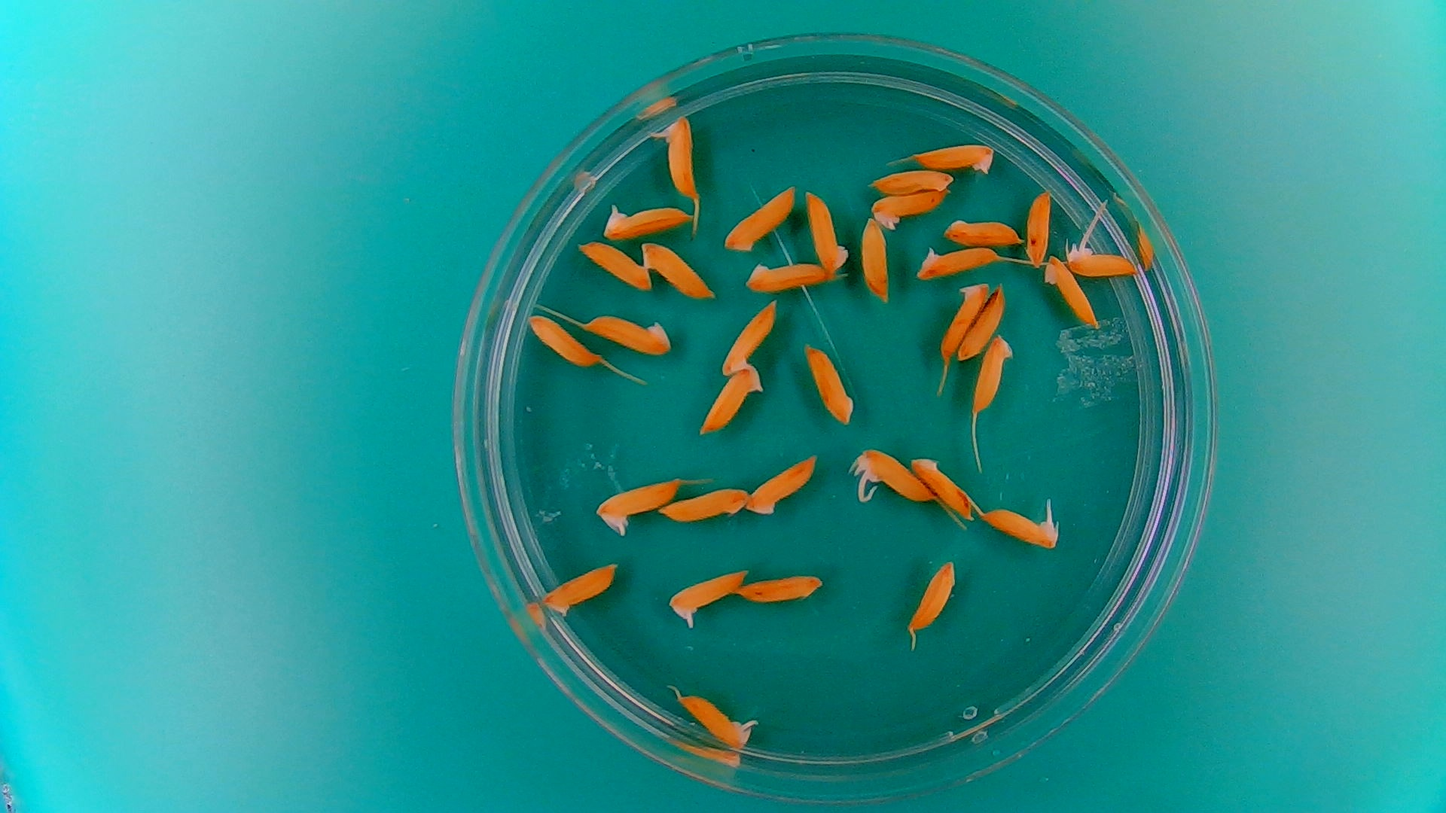no: (722, 182, 798, 252), (696, 361, 765, 438), (745, 449, 822, 518), (720, 295, 778, 381), (639, 239, 718, 301), (541, 558, 621, 619), (911, 452, 979, 522), (802, 341, 857, 427), (939, 278, 992, 361), (1044, 253, 1101, 329), (580, 310, 674, 356), (804, 185, 851, 277), (525, 312, 602, 368), (907, 556, 956, 642), (575, 239, 651, 293), (956, 285, 1005, 364), (911, 243, 1005, 282), (659, 483, 748, 524), (971, 331, 1013, 417), (736, 569, 825, 605), (908, 139, 996, 175), (868, 188, 947, 228), (743, 257, 831, 292), (859, 215, 892, 303), (942, 213, 1024, 247), (1023, 187, 1053, 268), (871, 169, 955, 197)
yes: (672, 693, 754, 751), (856, 450, 936, 505), (664, 567, 747, 616), (597, 478, 681, 524), (602, 198, 692, 240), (977, 510, 1057, 552), (662, 117, 694, 202), (1067, 243, 1139, 279)
